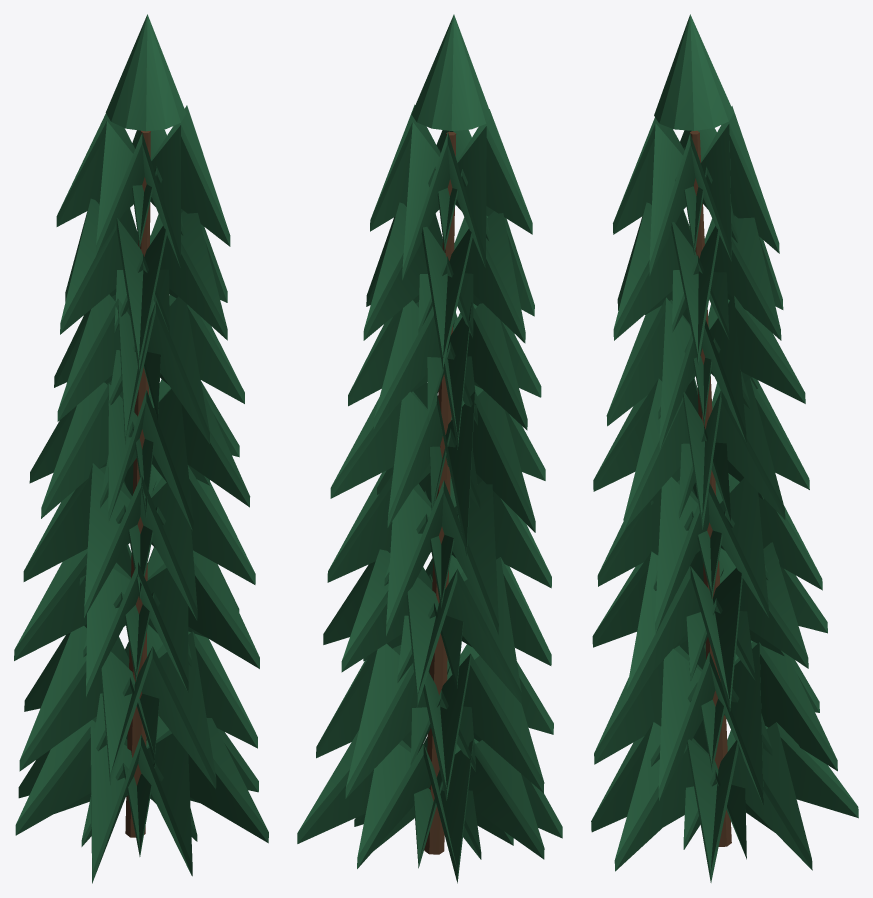
The model's file is tree_pine_b_tall.glb.
The picture shows the model from 3 angles, left to right: view 1: azimuth 30°, elevation 25°; view 2: azimuth 150°, elevation 25°; view 3: azimuth 270°, elevation 25°; orthographic projection.
Parts seen in each view (by area): view 1: Canopy, Trunk; view 2: Canopy, Trunk; view 3: Canopy, Trunk.
Part boxes in pixels (x1=…): Canopy: x1=14, y1=14, x2=268, y2=883; Trunk: x1=125, y1=130, x2=150, y2=837; Canopy: x1=297, y1=14, x2=562, y2=883; Trunk: x1=424, y1=131, x2=456, y2=854; Canopy: x1=591, y1=14, x2=858, y2=882; Trunk: x1=689, y1=130, x2=731, y2=846.
Bounding box in the file's own units: 5.33 × 18.2 × 5.33.
Materials: 1 (1 with a texture image).
